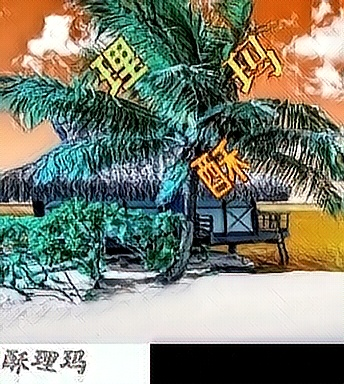C0ED: (90, 34, 150, 98)
C2EA: (222, 32, 282, 96)
CBD6: (189, 136, 249, 200)
